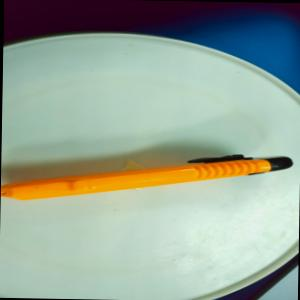estilete: (0, 150, 292, 205)
